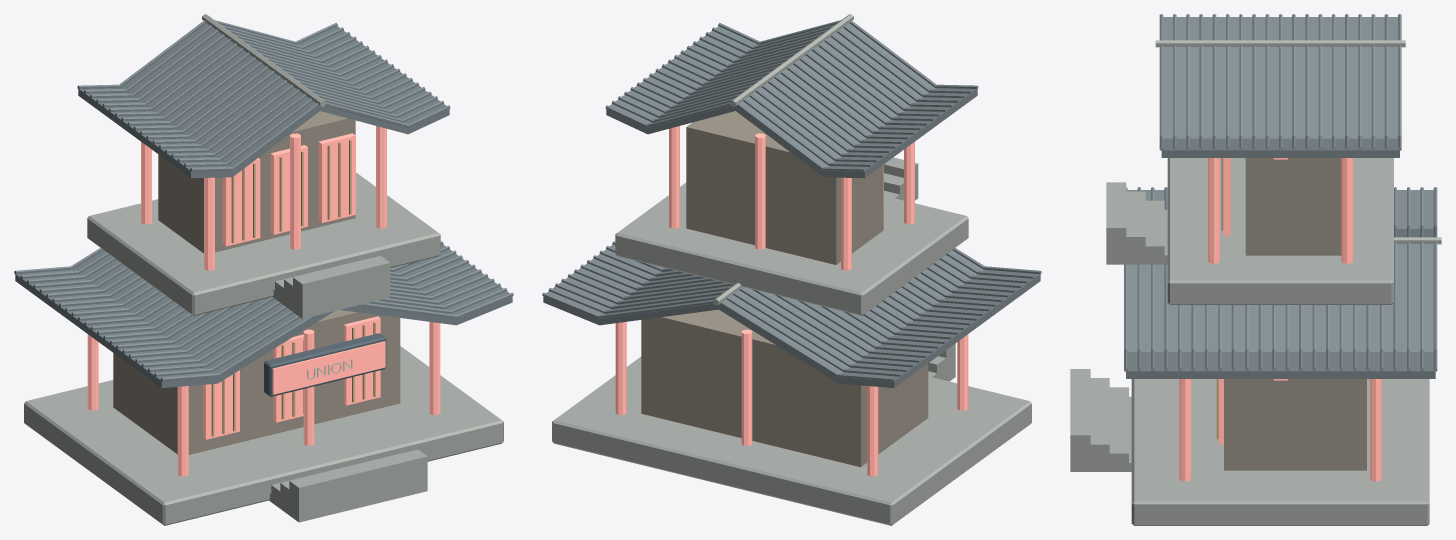
File: SM_ENV_Building_12_FusionTemple.glb
3 views of the same model, side by side, from view 1: azimuth 30°, elevation 25°; view 2: azimuth 150°, elevation 25°; view 3: azimuth 270°, elevation 25° (orthographic). The views are drawn at different scales.
Parts seen in each view (by area): view 1: SM_ENV_Building_12_FusionTemple; view 2: SM_ENV_Building_12_FusionTemple; view 3: SM_ENV_Building_12_FusionTemple.
Part boxes in pixels (x1,y1,x2,y2): SM_ENV_Building_12_FusionTemple: (14,14,513,525); SM_ENV_Building_12_FusionTemple: (542,14,1041,525); SM_ENV_Building_12_FusionTemple: (1070,14,1441,525).
Size of the model in its own units: 7.21 by 7.39 by 6.23.
